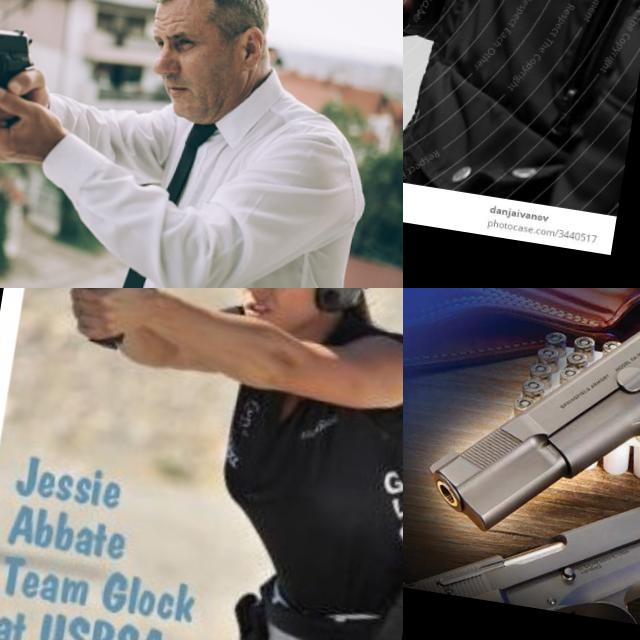handgun: (419, 288, 640, 608), (403, 0, 542, 100), (0, 6, 81, 102), (33, 288, 160, 331)
